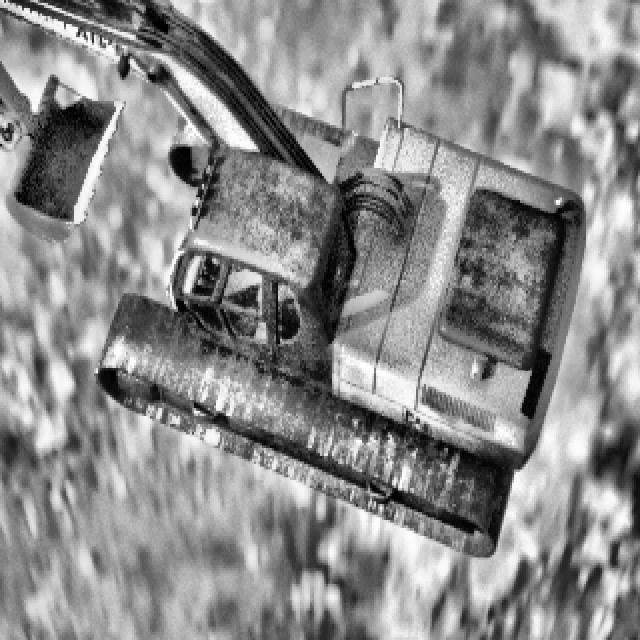excavator: (0, 0, 584, 555)
